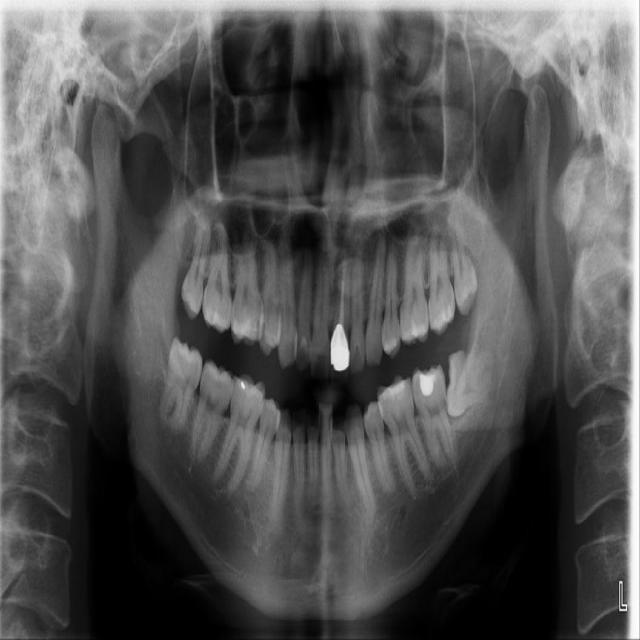Crown: (329, 324, 351, 376)
Filling: (420, 374, 436, 396), (240, 381, 245, 390)
Root Canal Treatment: (340, 261, 344, 327)
impacted tooth: (159, 337, 201, 432), (448, 346, 499, 419)
